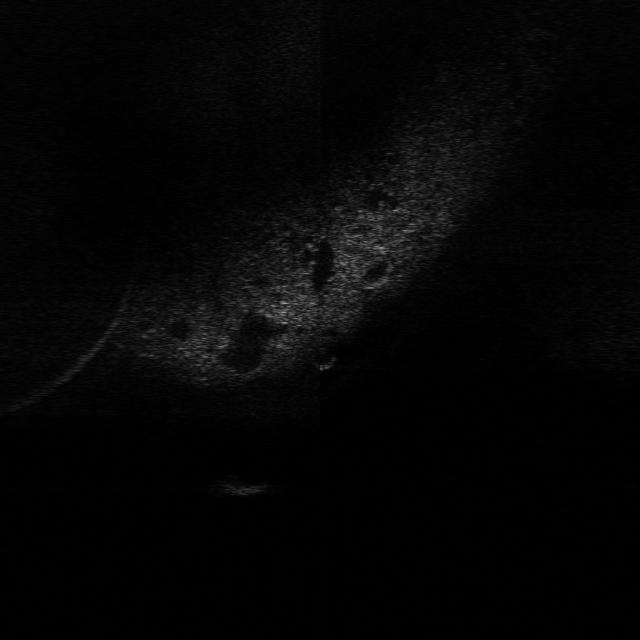ball: (304, 343, 340, 370)
cube: (204, 472, 274, 500)
